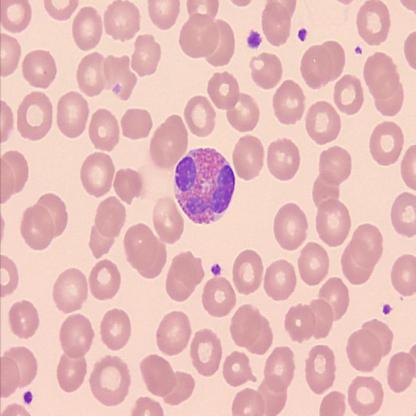Eosinophil: (171, 146, 238, 228)
